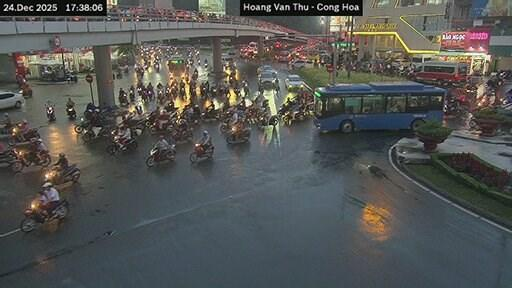motorbike: (19, 198, 67, 232), (10, 148, 51, 171), (44, 163, 80, 184), (146, 144, 175, 166), (150, 112, 176, 134), (7, 126, 38, 144), (188, 143, 213, 162), (83, 126, 109, 142), (227, 126, 249, 143), (123, 118, 144, 134), (170, 127, 192, 142), (106, 135, 121, 154), (256, 115, 278, 127), (73, 117, 89, 133), (202, 108, 220, 120), (0, 149, 16, 162), (144, 109, 156, 126), (218, 117, 230, 133), (124, 136, 137, 149), (19, 84, 32, 97), (45, 104, 54, 121), (118, 91, 128, 106), (67, 72, 76, 82), (67, 106, 75, 117), (128, 90, 134, 102), (153, 63, 159, 72), (115, 71, 121, 77), (124, 67, 128, 73)
